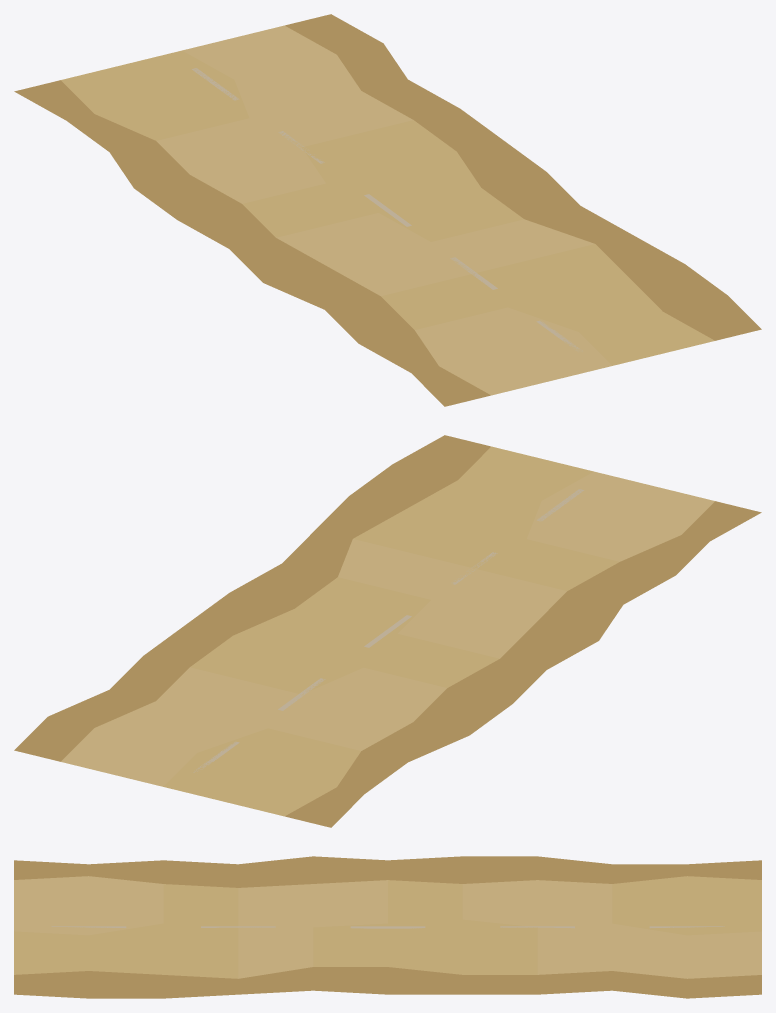
The model's file is drod.obj.
3 views of the same model, one above another, from view 1: azimuth 30°, elevation 25°; view 2: azimuth 150°, elevation 25°; view 3: azimuth 270°, elevation 25° (orthographic). The views are drawn at different scales.
Bounding box in the file's own units: 2520 × 0 × 5600.
